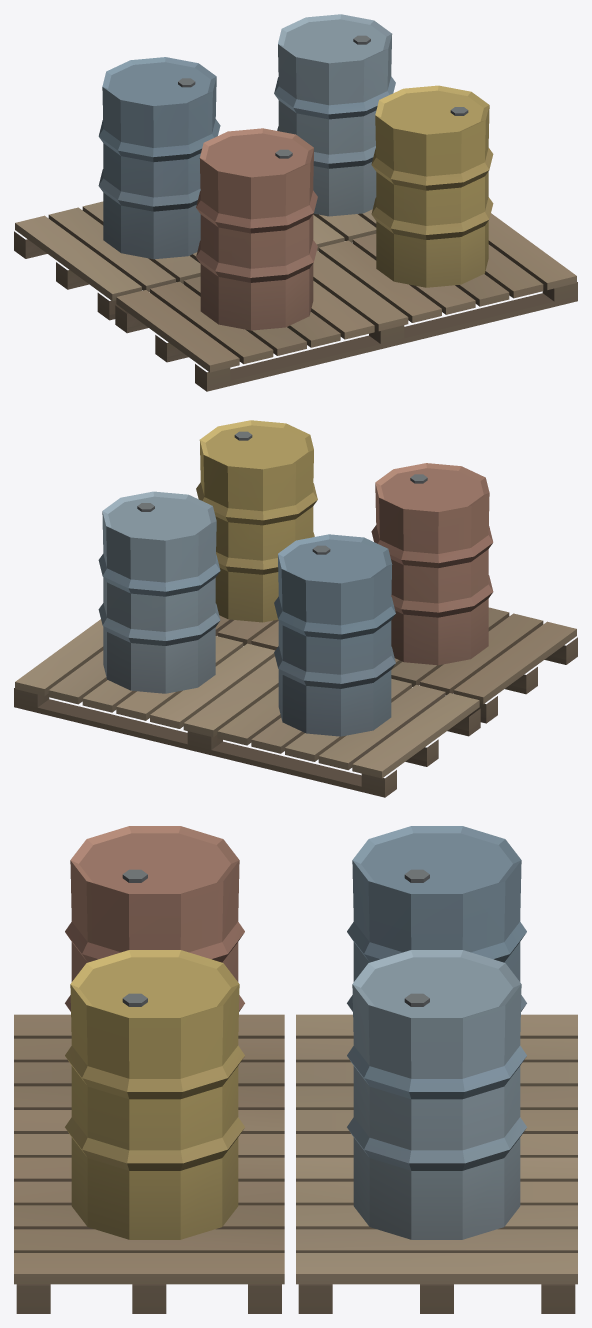
The model's file is drums.glb.
3 views of the same model, one above another, from view 1: azimuth 30°, elevation 25°; view 2: azimuth 150°, elevation 25°; view 3: azimuth 270°, elevation 25° (orthographic). The views are drawn at different scales.
Bounding box in the file's own units: 2.2 × 1.02 × 2.
